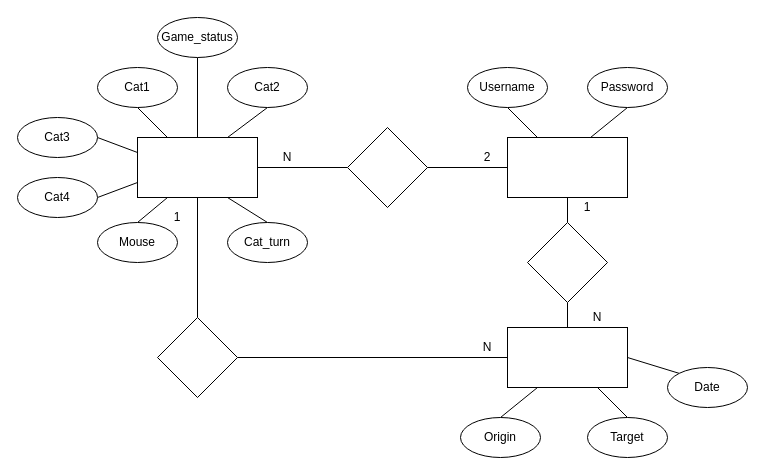
This 765x475 diagram has some shape labels left out. Each missing label, with the centre of its shape:
Game: [197,167]
Move: [567,357]
User: [567,167]
